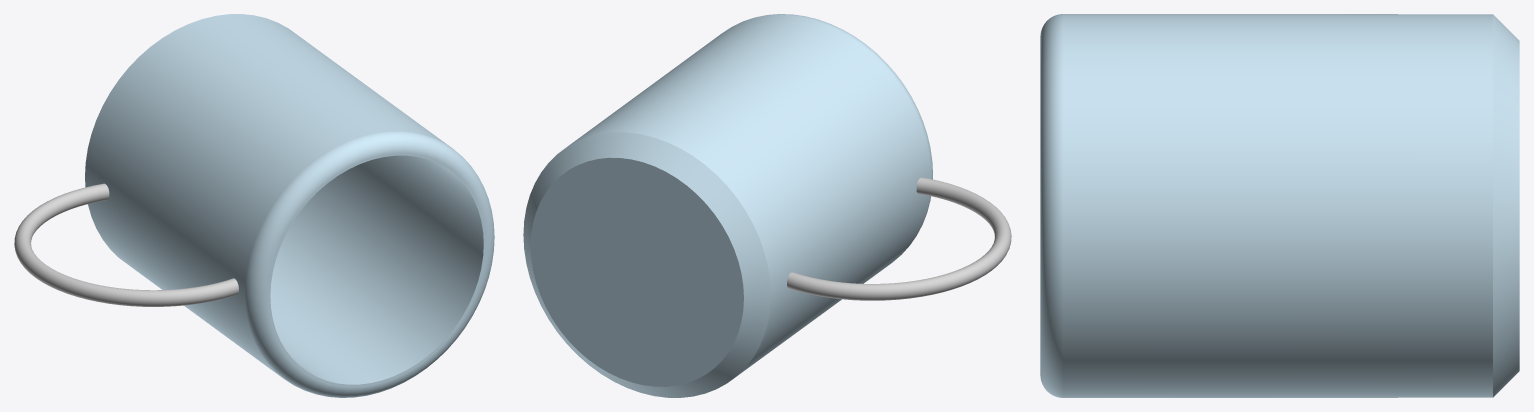
Rendered from Cup.glb.
3 renders of one model, left to right at view 1: azimuth 30°, elevation 25°; view 2: azimuth 150°, elevation 25°; view 3: azimuth 270°, elevation 25°, orthographic. The views are drawn at different scales.
Parts seen in each view (by area): view 1: Part 1, Part 2; view 2: Part 1, Part 2; view 3: Part 1.
Part boxes in pixels (x1,y1,x2,y2): Part 1: [85, 14, 494, 397]; Part 2: [14, 183, 238, 306]; Part 1: [523, 14, 932, 397]; Part 2: [787, 177, 1011, 300]; Part 1: [1040, 14, 1519, 397].
Bounding box in the file's own units: 0.1429 × 0.0919 × 0.1148.
